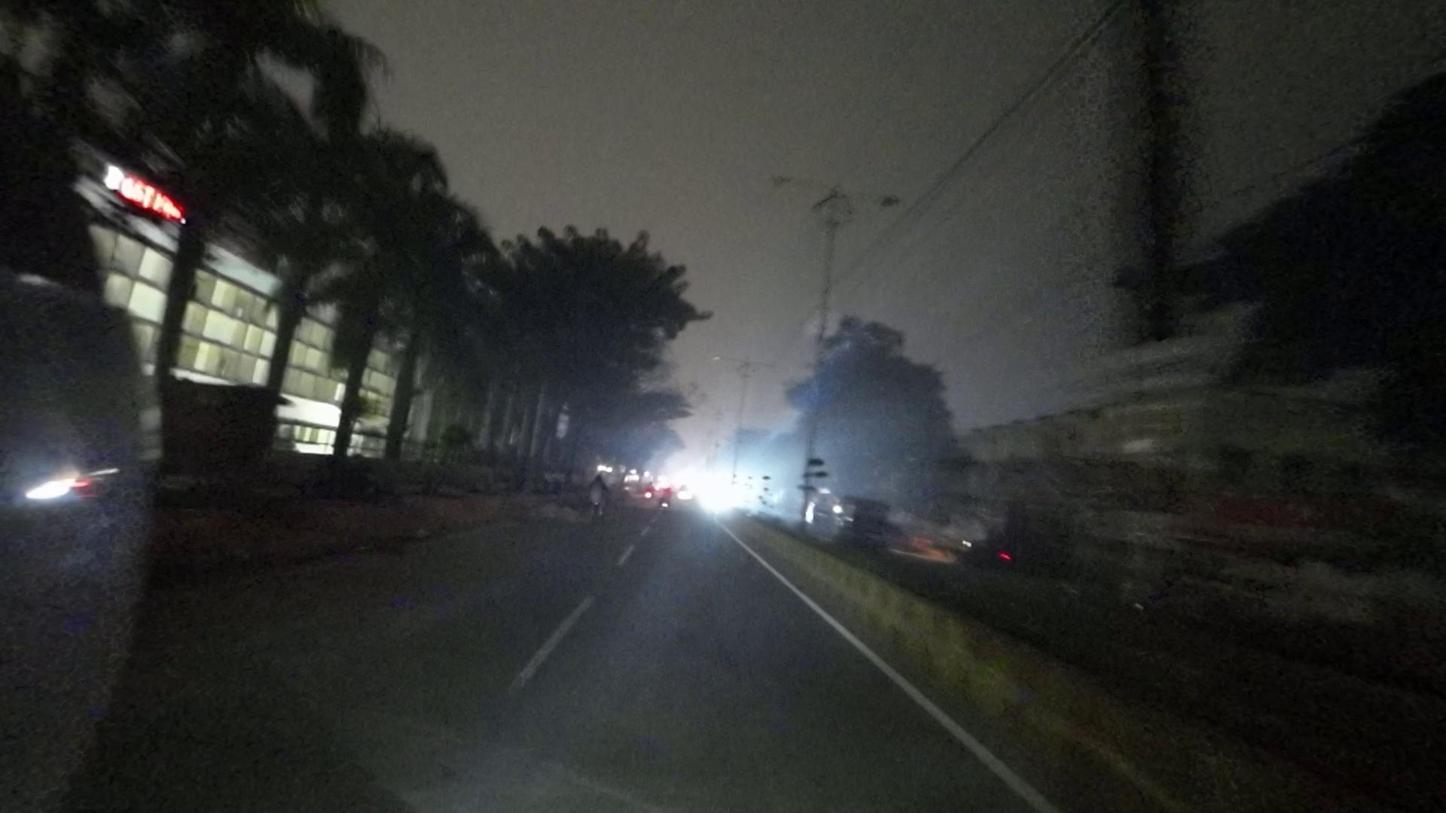streetlight: (770, 172, 832, 194), (847, 187, 906, 210)
